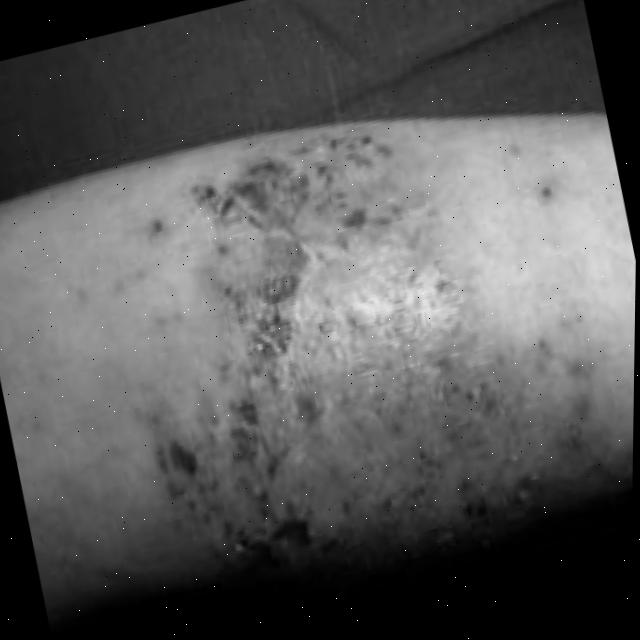Eczema: (136, 118, 411, 510)
